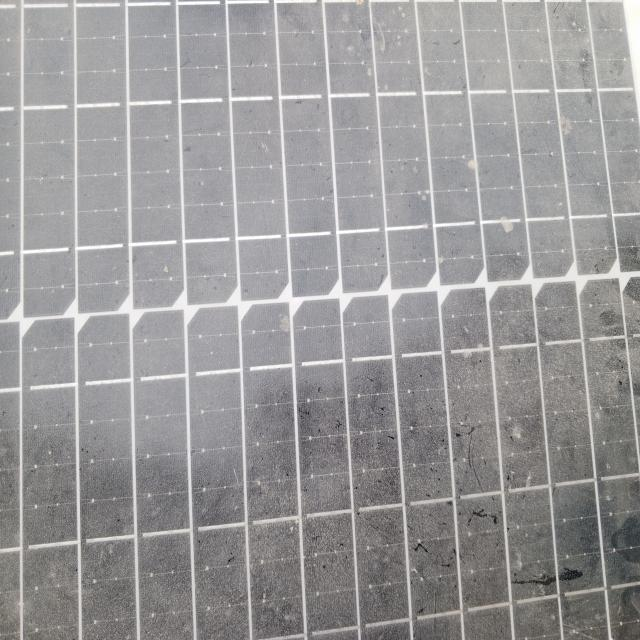Surface Contaminant: (19, 12, 616, 618)
